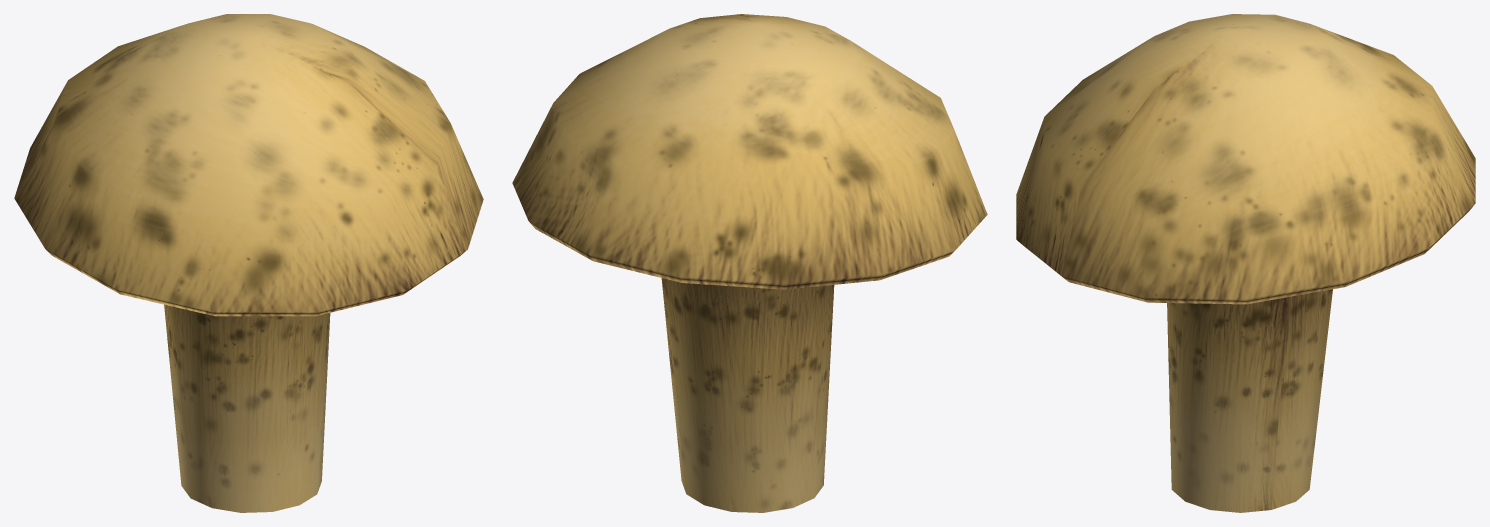
The model's file is Mushroom_2.fbx.
3 renders of one model, left to right at view 1: azimuth 30°, elevation 25°; view 2: azimuth 150°, elevation 25°; view 3: azimuth 270°, elevation 25°, orthographic.
Parts seen in each view (by area): view 1: Mushroom_2; view 2: Mushroom_2; view 3: Mushroom_2.
Part boxes in pixels (box(x1,y1,x2,y2)): Mushroom_2: box(14, 14, 483, 512); Mushroom_2: box(512, 14, 987, 512); Mushroom_2: box(1016, 14, 1475, 512).
Size of the model in its own units: 0.437 by 0.4597 by 0.4245.
Materials: 1 (1 with a texture image).
